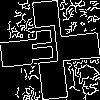E: (25, 25, 63, 74)
